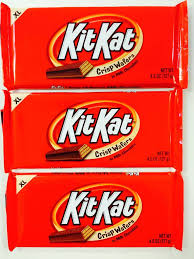kitkat: (1, 2, 191, 86), (6, 172, 188, 255), (3, 93, 192, 165)
